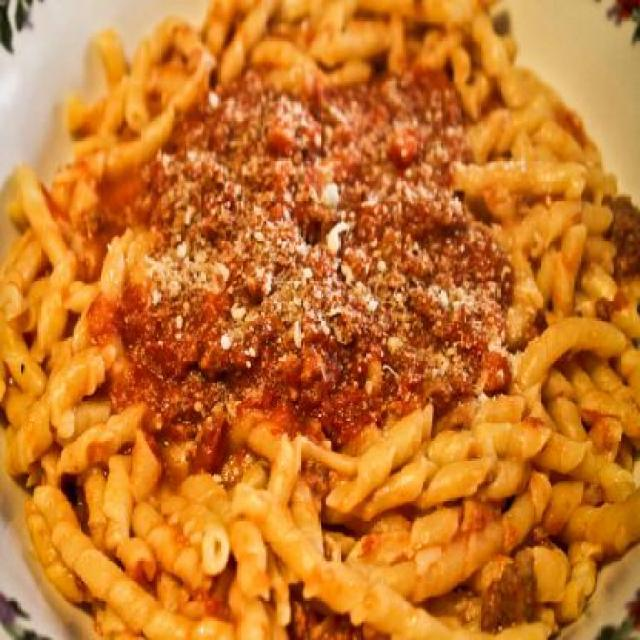Pasta al ragu: (15, 21, 632, 624)
